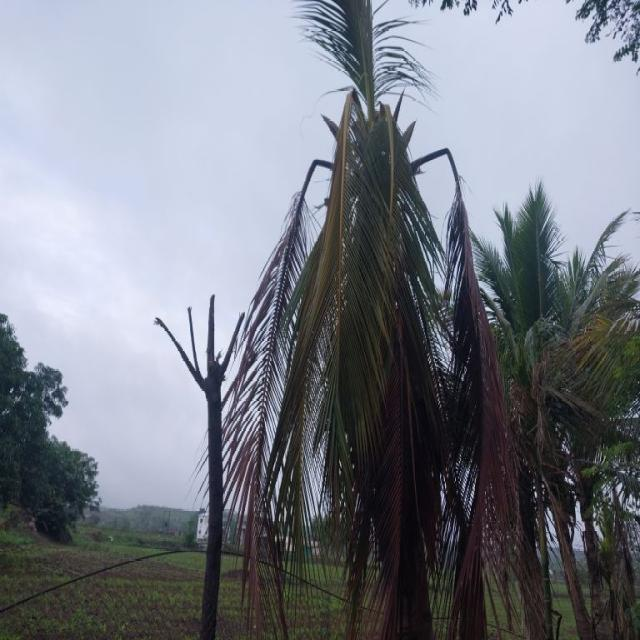bud root dropping: (224, 0, 511, 638)
